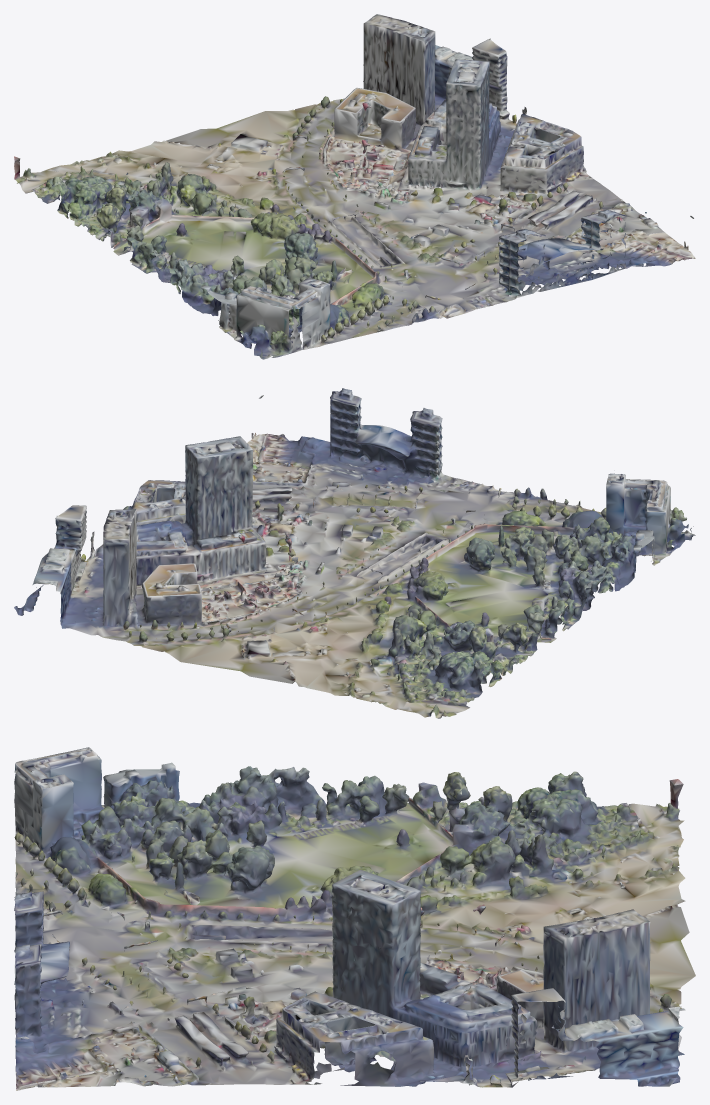
The model's file is tile-3890_58207.glb.
3 renders of one model, top to bottom at view 1: azimuth 30°, elevation 25°; view 2: azimuth 150°, elevation 25°; view 3: azimuth 270°, elevation 25°, orthographic. The views are drawn at different scales.
Visible parts, largest first — view 1: world; view 2: world; view 3: world.
Part boxes in pixels (<box>): world: <box>14,14,695,359</box>; world: <box>14,388,695,718</box>; world: <box>14,747,695,1090</box>.
Size of the model in its own units: 366 by 91.03 by 371.
